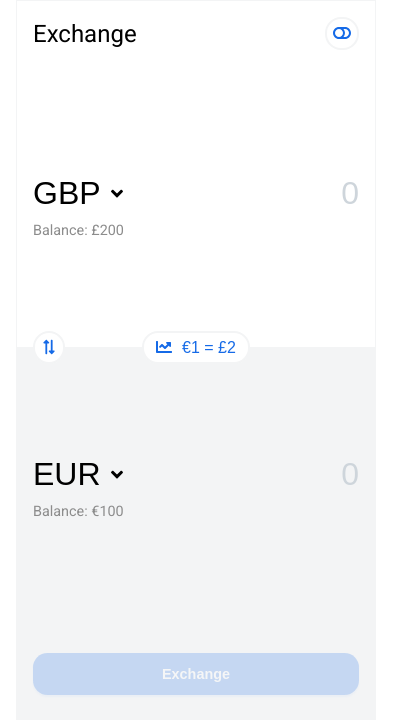
Test case: should render <App /> and make a simple exchange
update fromAmount input value
Type "200" into the number field named "fromAmount" at (332, 193), box [306,175,359,212]
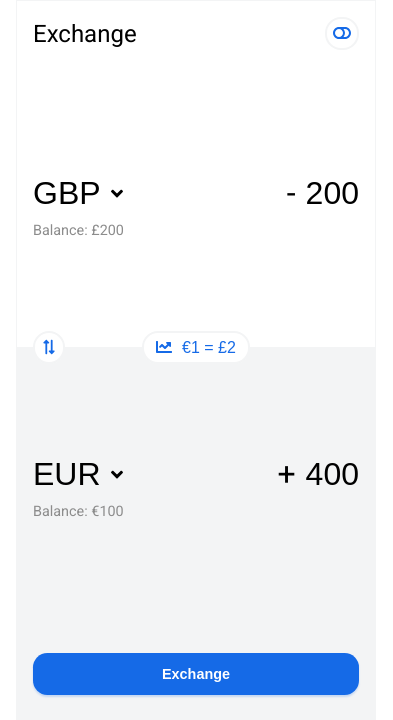
Expected: the text with test id "fromAmountBalance" reads "Balance: £200", [33,222,124,239]
Expected: the text with test id "toAmountBalance" reads "Balance: €100", [33,503,124,520]
make exchange
Click the button with test id "submit-exchange" at (196, 674), box [33,653,359,695]
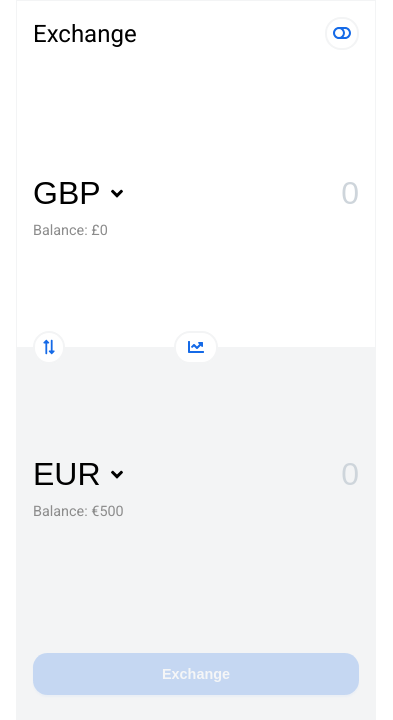
Result: the text with test id "fromAmountBalance" reads "Balance: £0" at [33,222,108,239]
Result: the text with test id "toAmountBalance" reads "Balance: €500" at [33,503,124,520]
